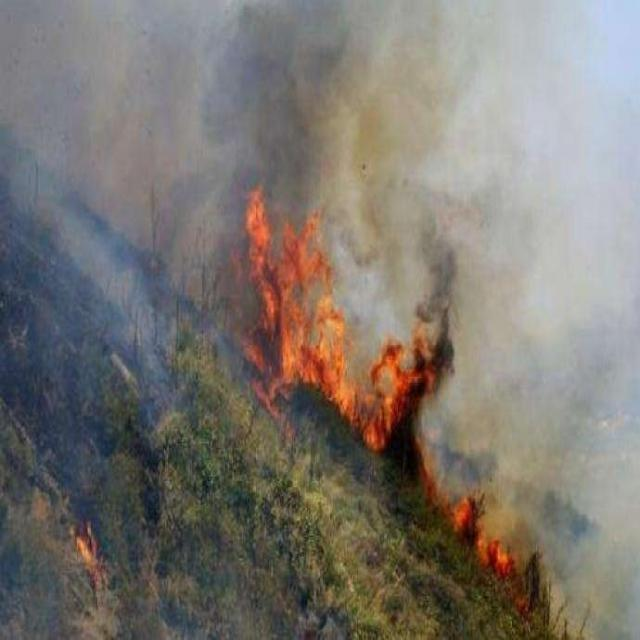fire: (242, 186, 527, 580), (76, 524, 100, 590)
